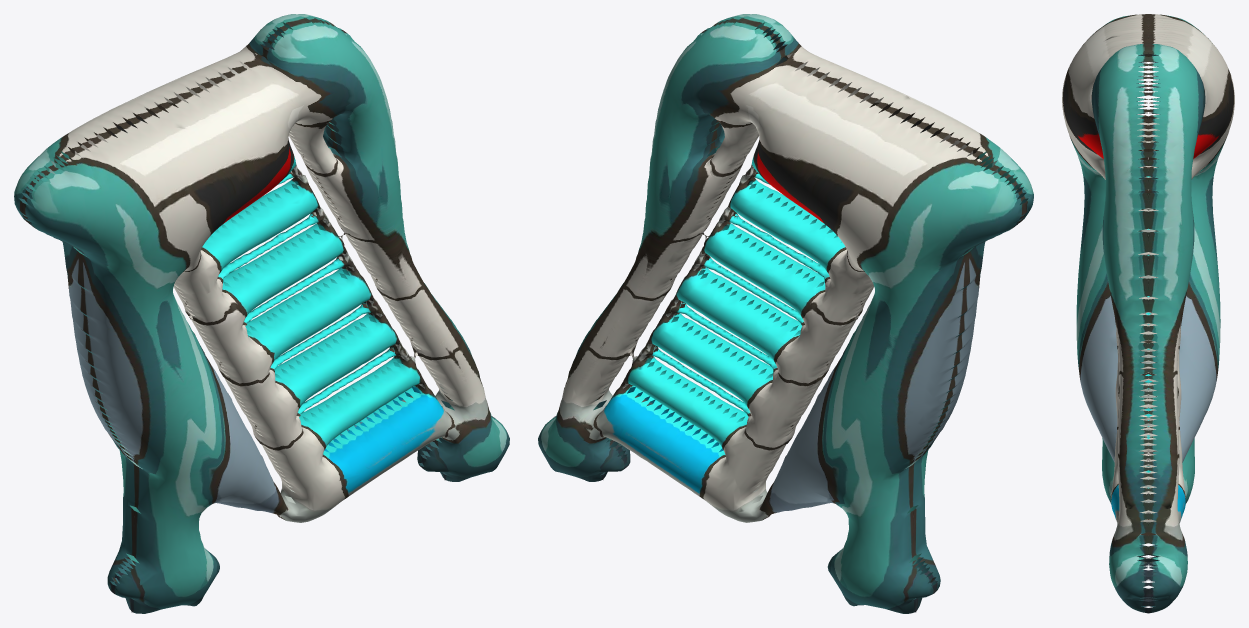
Rendered from cyan_bridge.glb.
3 views of the same model, side by side, from view 1: azimuth 30°, elevation 25°; view 2: azimuth 150°, elevation 25°; view 3: azimuth 270°, elevation 25° (orthographic). The views are drawn at different scales.
Visible parts, largest first — view 1: cyan_bridge; view 2: cyan_bridge; view 3: cyan_bridge.
Boxes of the visible parts, left/top/right/bottom form: cyan_bridge: left=14, top=14, right=509, bottom=613; cyan_bridge: left=538, top=14, right=1033, bottom=613; cyan_bridge: left=1062, top=14, right=1234, bottom=613.
Size of the model in its own units: 0.9875 by 1.08 by 0.3178.
1 material, 1 textured.
